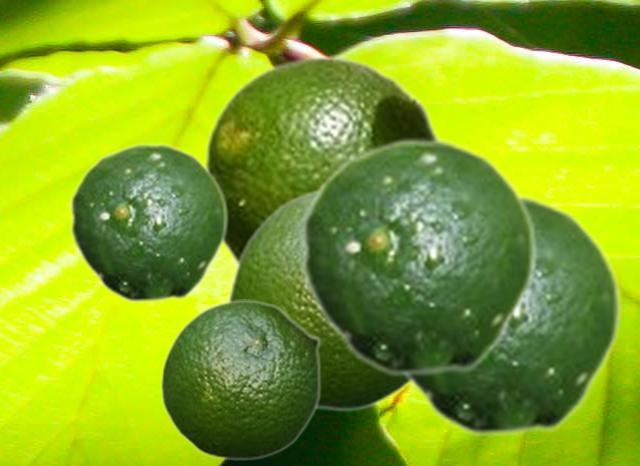calamansi: (300, 137, 537, 377), (399, 193, 622, 437), (201, 54, 446, 266), (226, 185, 410, 411), (160, 299, 321, 460), (69, 142, 228, 303)
